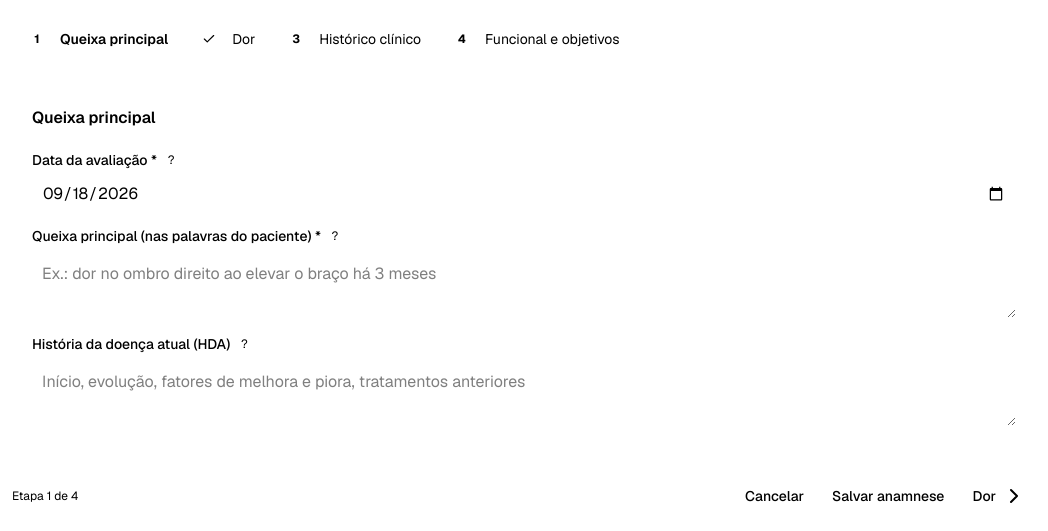
Test: AnamnesisForm em etapas › não marca a etapa 1 como preenchida sem queixa principal
Click the button named "Próxima etapa: Dor" at (999, 496), box [962, 478, 1036, 514]
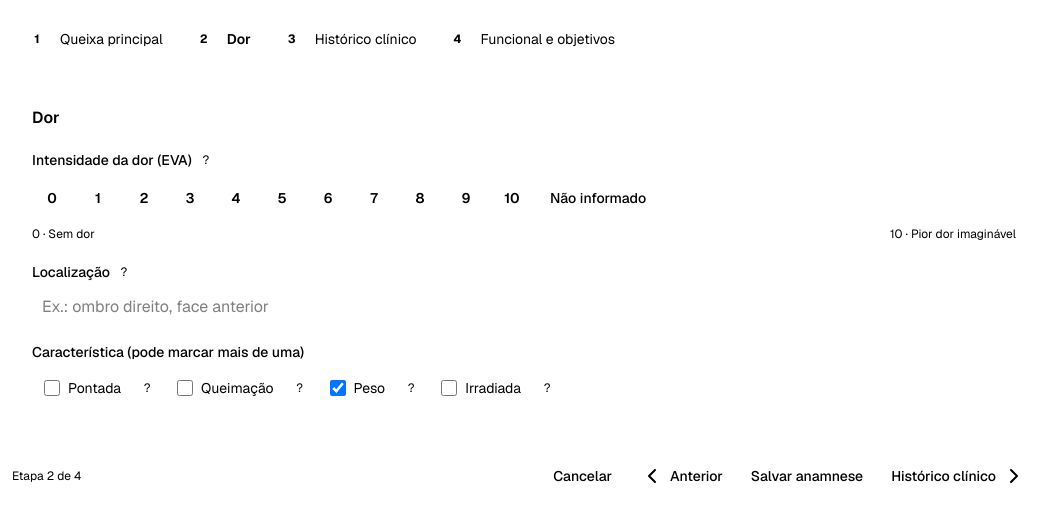
Click the button "1 Queixa principal" at (93, 39), box [12, 16, 175, 62]
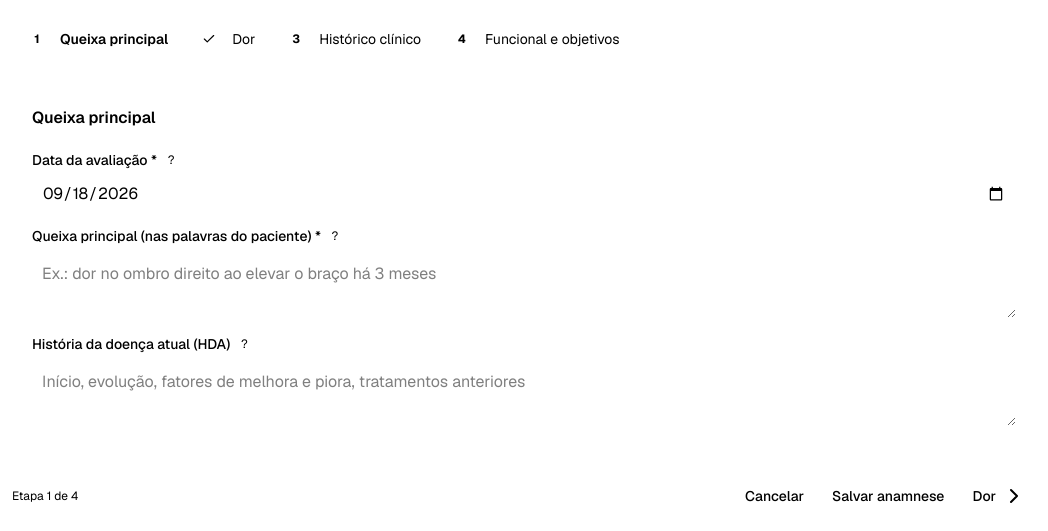
Type "Dor lombar" into the text box labelled "Queixa principal (nas palavras do paciente) *" at (524, 286), box [32, 254, 1016, 318]
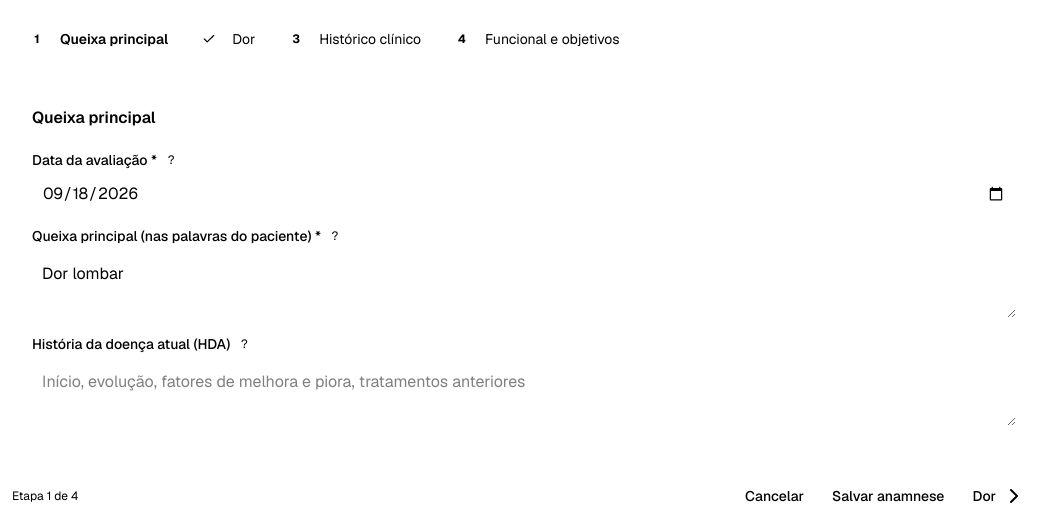
Click the button named "Próxima etapa: Dor" at (999, 496), box [962, 478, 1036, 514]
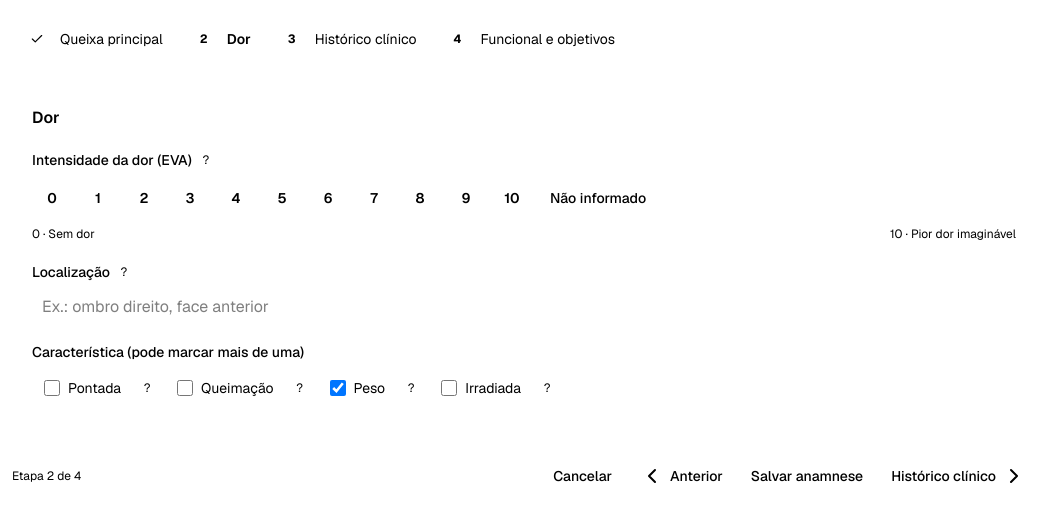
Now the button "Queixa principal" is shown, box [12, 16, 175, 62]
